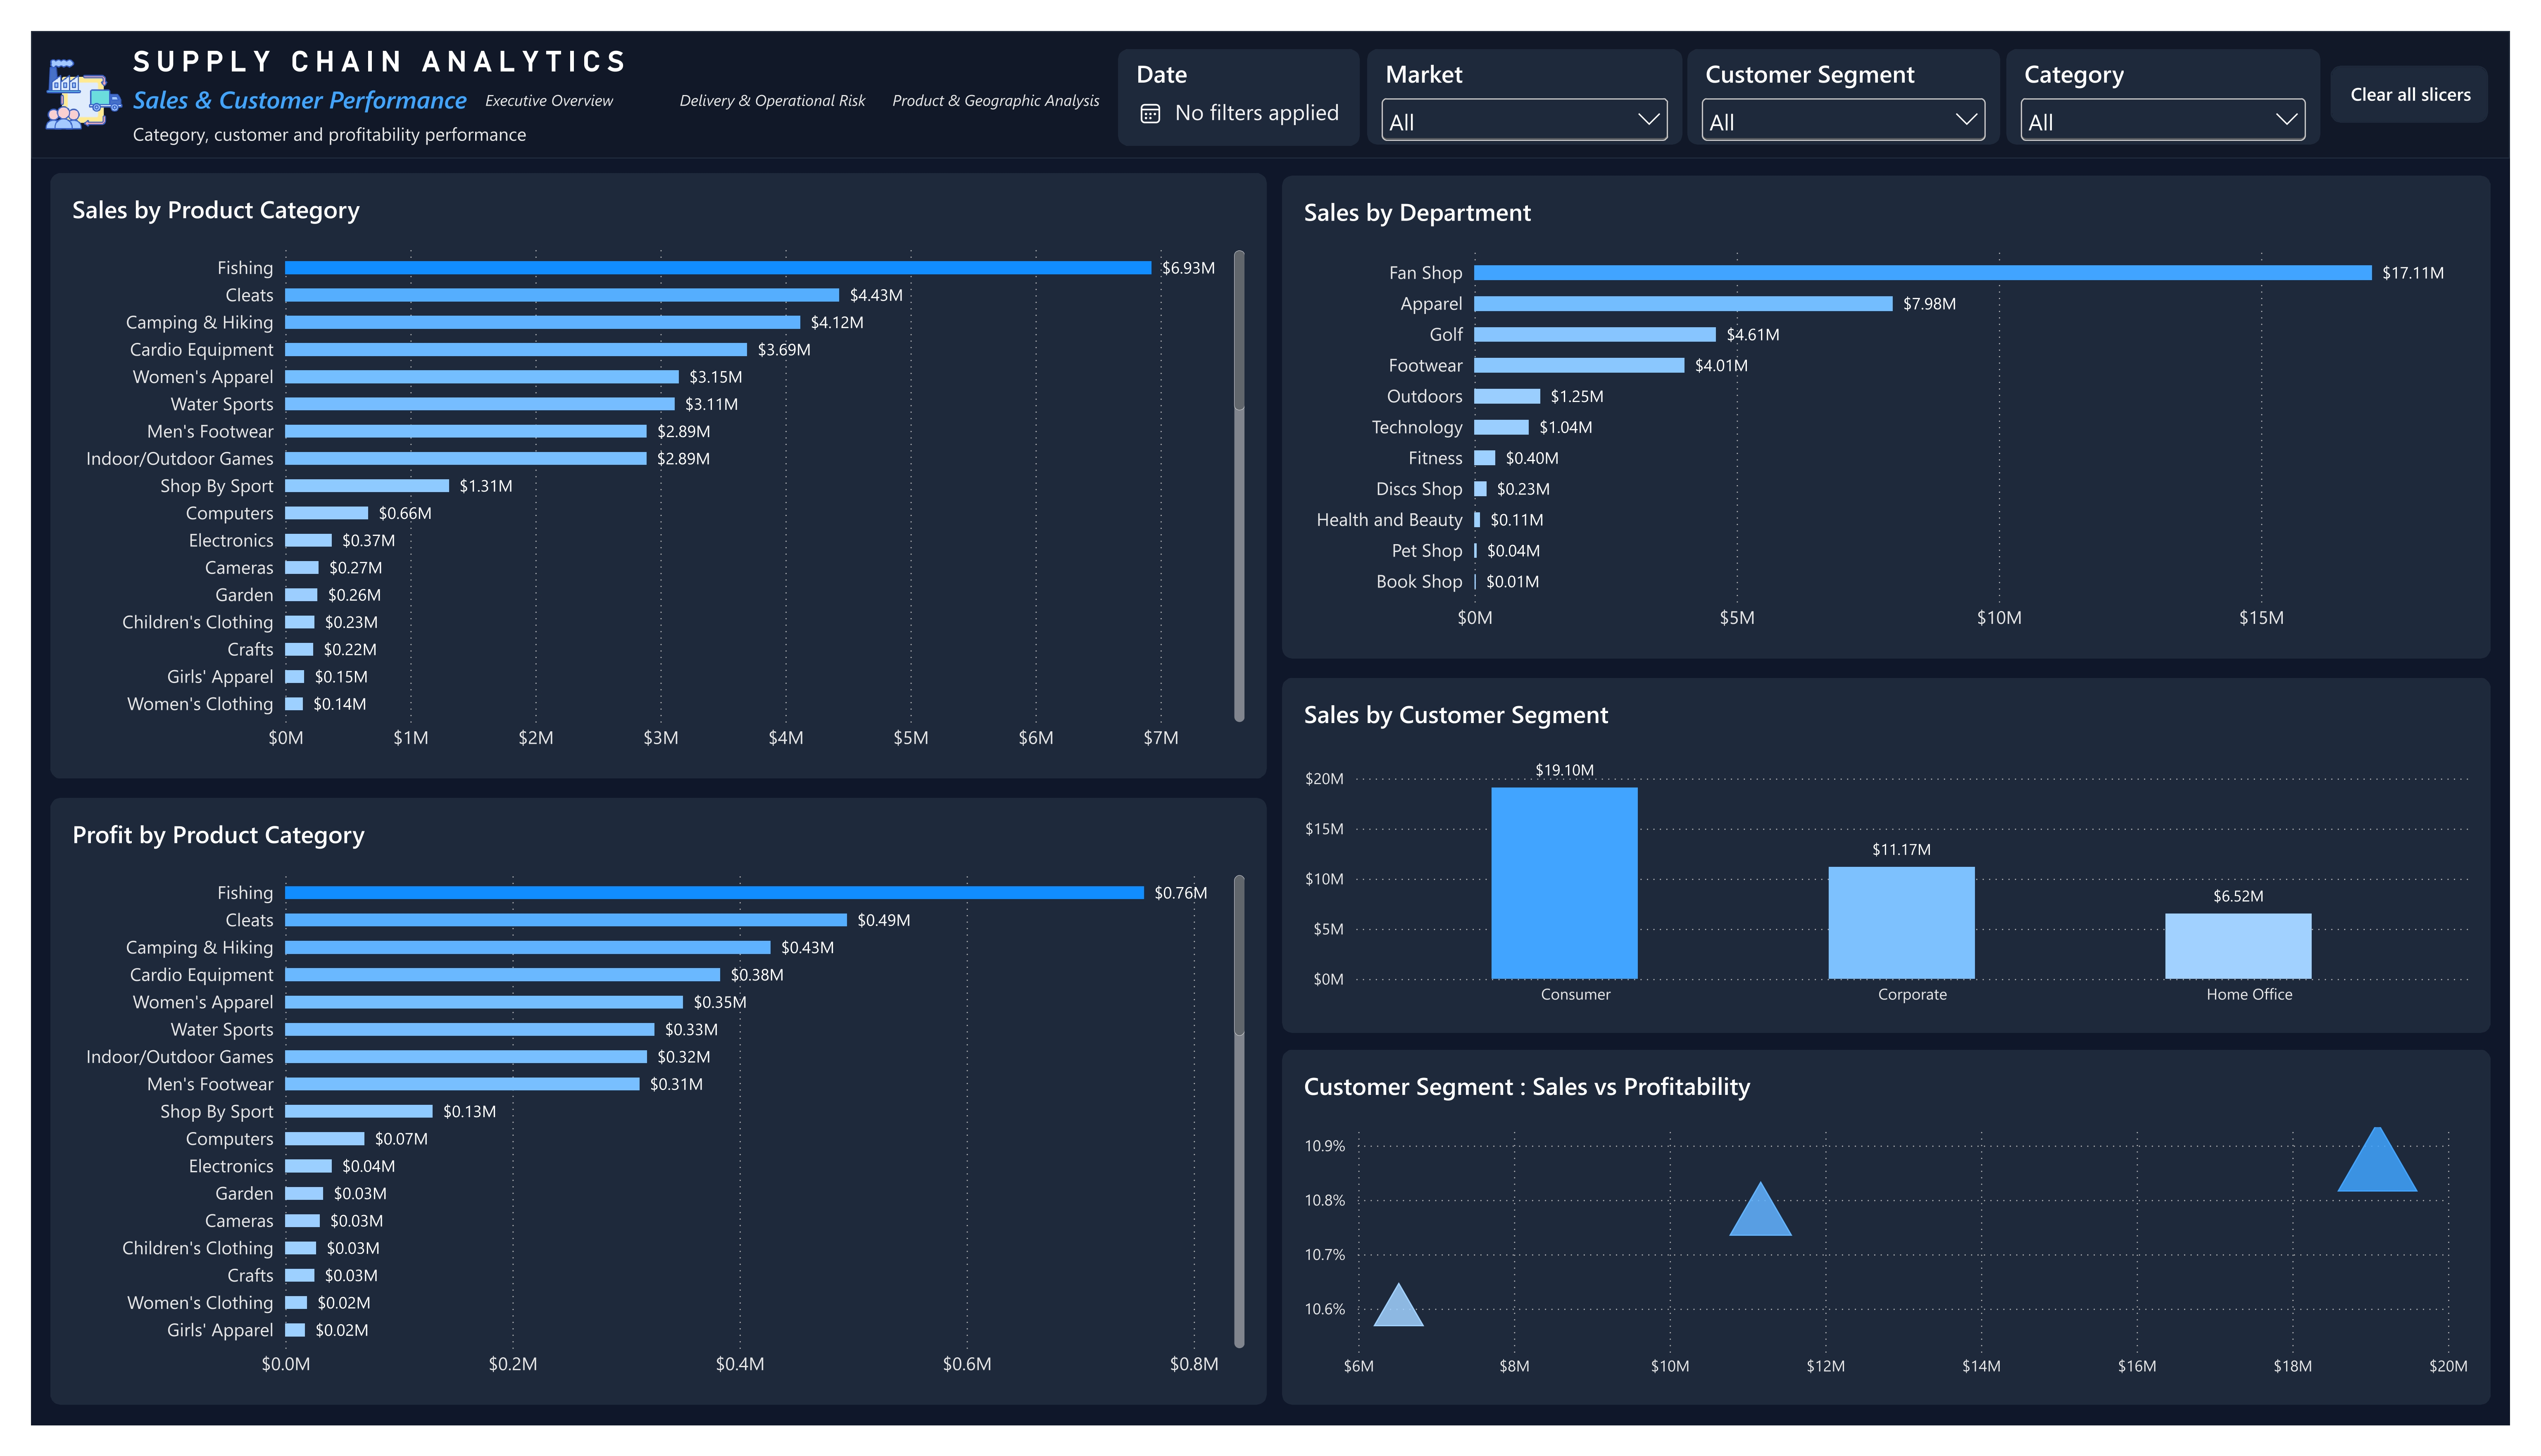

What the dashboard file says about the page in this screenshot:
{"tool":"powerbi","page":{"name":"Sales & Customer Performance","canvas":[1920,1080],"ordinal":1},"visuals":[{"type":"shape","box":[0,0,1919.6,99.4],"z":0,"group":"g2"},{"type":"actionButton","box":[1780.5,26.8,122.2,44.4],"z":0,"group":"g1"},{"type":"clusteredBarChart","title":"Sales by Product Category","fields":{"Y":["_Measures.Total Sales"],"Category":["dim_product.category_name"]},"box":[15.2,110.1,941.7,469.2],"z":0},{"type":"group","id":"g1","title":"Filter pane","box":[841.8,13.7,1060.9,75],"z":1000,"group":"g2"},{"type":"slicer","title":"Date","fields":{"Values":["dim_date.full_date"]},"box":[841.8,13.7,187.2,75],"z":1000,"group":"g1"},{"type":"clusteredBarChart","title":"Profit by Product Category","fields":{"Category":["dim_product.category_name"],"Y":["_Measures.Total Profit"]},"box":[15.2,594.5,941.7,469.2],"z":1000},{"type":"textbox","title":"S U P P L Y   C H A I N   A N A L Y T I C S","box":[74.3,5.7,400,90],"z":2000,"group":"g2"},{"type":"slicer","title":"Location","fields":{"Values":["dim_location.market"]},"box":[1034.9,13.7,243.4,73.7],"z":2000,"group":"g1"},{"type":"clusteredColumnChart","title":"Sales by Customer Segment","fields":{"Y":["_Measures.Total Sales"],"Category":["dim_customer.customer_segment"]},"box":[968.8,501.3,936.6,274.4],"z":2000},{"type":"slicer","title":"Customer","fields":{"Values":["dim_customer.customer_segment"]},"box":[1283,13.7,242.2,73.7],"z":3000,"group":"g1"},{"type":"pageNavigator","box":[315,39.3,520,30],"z":3000,"group":"g2"},{"type":"clusteredBarChart","title":"Sales by Department","fields":{"Category":["dim_product.department_name"],"Y":["_Measures.Total Sales"]},"box":[968.8,111.8,936.6,374.3],"z":3000},{"type":"slicer","title":"Shipping Mode","fields":{"Values":["dim_product.category_name"]},"box":[1530,13.7,242.9,74.4],"z":4000,"group":"g1"},{"type":"scatterChart","title":"Customer Segment : Sales vs Profitability","fields":{"X":["_Measures.Total Sales"],"Y":["_Measures.Profit Margin %"],"Size":["_Measures.Total Orders"],"Category":["dim_customer.customer_segment"]},"box":[968.8,789.3,936.6,274.4],"z":4000},{"type":"image","box":[10.6,18.9,60,60],"z":4500,"group":"g2"},{"type":"group","id":"g2","title":"Top Bar","box":[0,0,1919.6,99.4],"z":5000}]}

Visuals, with their boxes on the page's 1920x1080 design canvas (x1, y1, x2, y2). These are canvas units, not pixel positions in the 2541x1456 screenshot, which may show the page scaled, cropped or inside an application window:
shape: BBox(0, 0, 1920, 99)
actionButton: BBox(1780, 27, 1903, 71)
"Sales by Product Category" clusteredBarChart: BBox(15, 110, 957, 579)
"Filter pane" group: BBox(842, 14, 1903, 89)
"Date" slicer: BBox(842, 14, 1029, 89)
"Profit by Product Category" clusteredBarChart: BBox(15, 594, 957, 1064)
"S U P P L Y   C H A I N   A N A L Y T I C S" textbox: BBox(74, 6, 474, 96)
"Location" slicer: BBox(1035, 14, 1278, 87)
"Sales by Customer Segment" clusteredColumnChart: BBox(969, 501, 1905, 776)
"Customer" slicer: BBox(1283, 14, 1525, 87)
pageNavigator: BBox(315, 39, 835, 69)
"Sales by Department" clusteredBarChart: BBox(969, 112, 1905, 486)
"Shipping Mode" slicer: BBox(1530, 14, 1773, 88)
"Customer Segment : Sales vs Profitability" scatterChart: BBox(969, 789, 1905, 1064)
image: BBox(11, 19, 71, 79)
"Top Bar" group: BBox(0, 0, 1920, 99)
